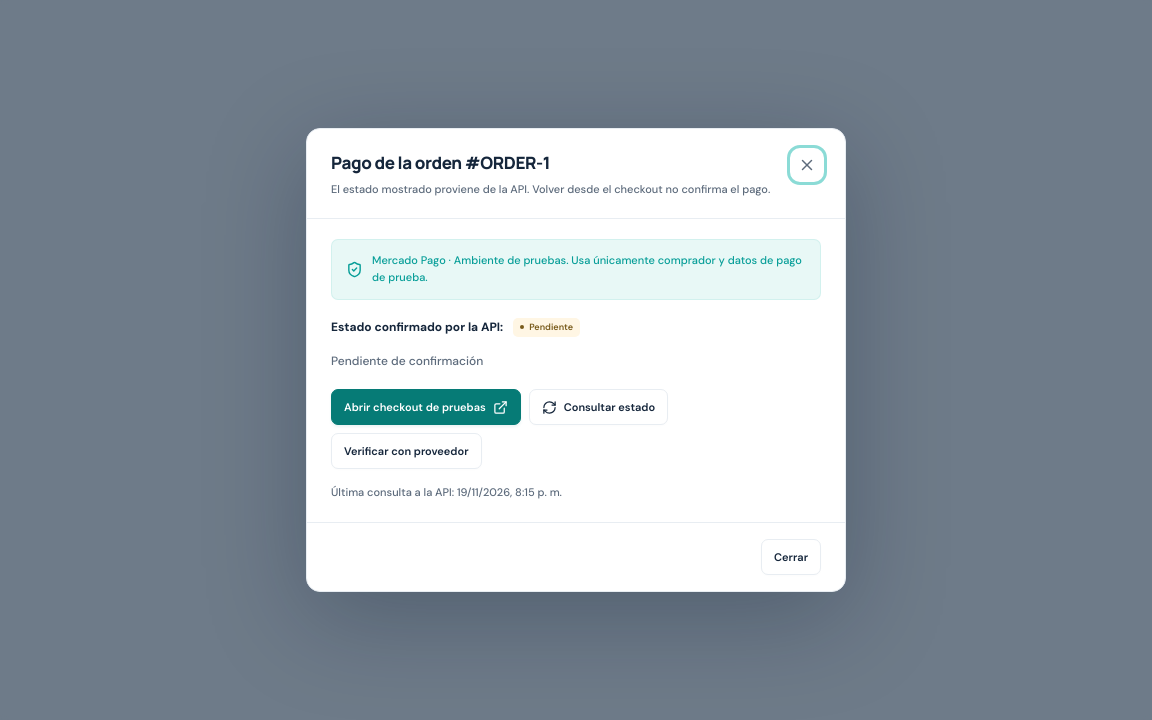
Test case: Confirmed operational mutations › never accepts an approved browser return as payment confirmation
The width and height of the screenshot is (1152, 720).
Check: the link "Abrir checkout de pruebas" is shown, box x1=331 y1=389 x2=521 y2=425
Check: the text "Pendiente" is shown, box x1=513 y1=318 x2=580 y2=337
Click the button "Verificar con proveedor" at (406, 451), box x1=331 y1=433 x2=482 y2=469
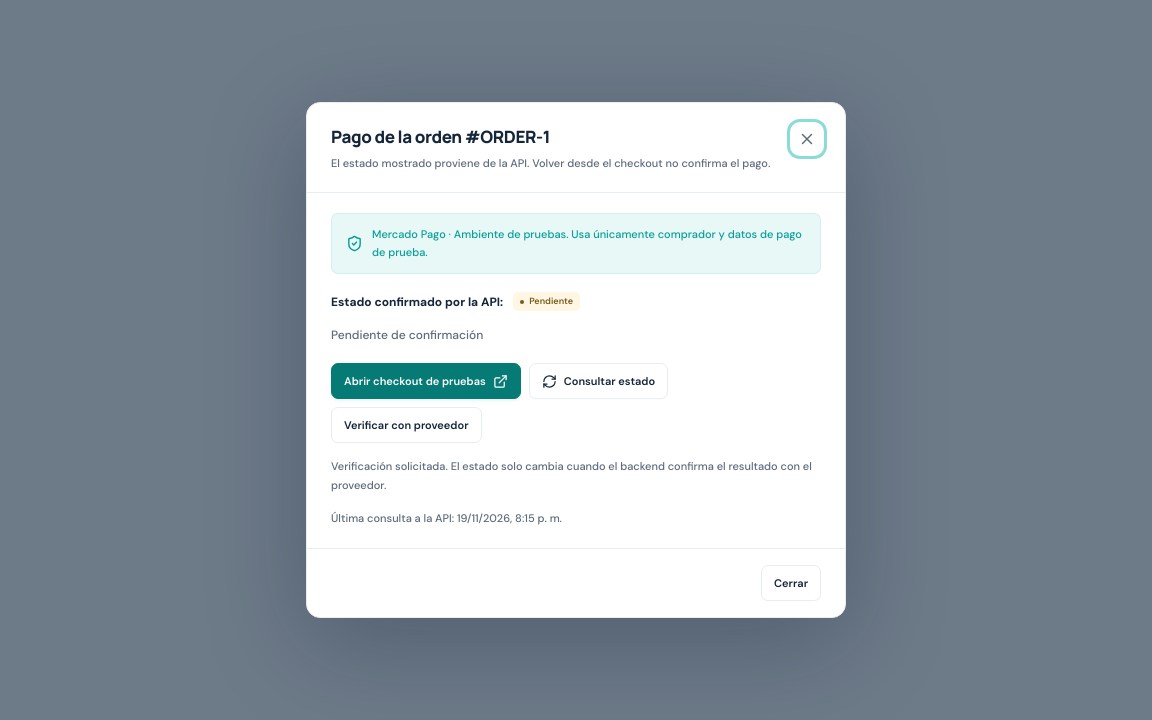
Check: the text "Pendiente" is shown, box x1=513 y1=292 x2=580 y2=311
Check: the text "Verificación solicitada. El estado solo cambia cuando el backend confirma el resultado con el proveedor." is shown, box x1=331 y1=460 x2=812 y2=492
